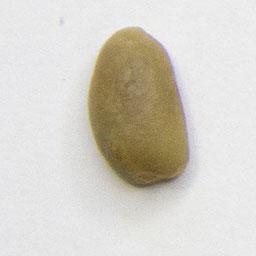longberry: (85, 22, 194, 191)
